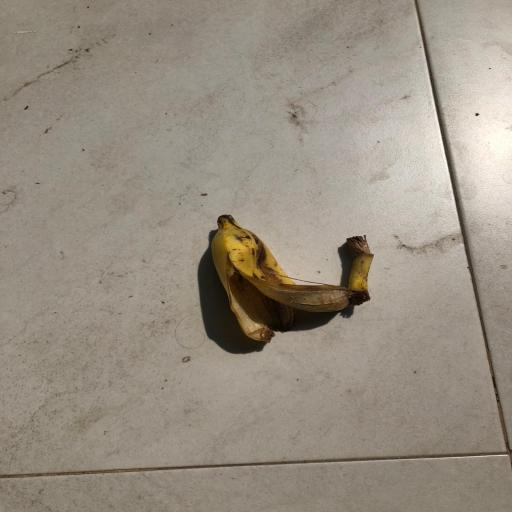waste: (192, 208, 401, 346)
